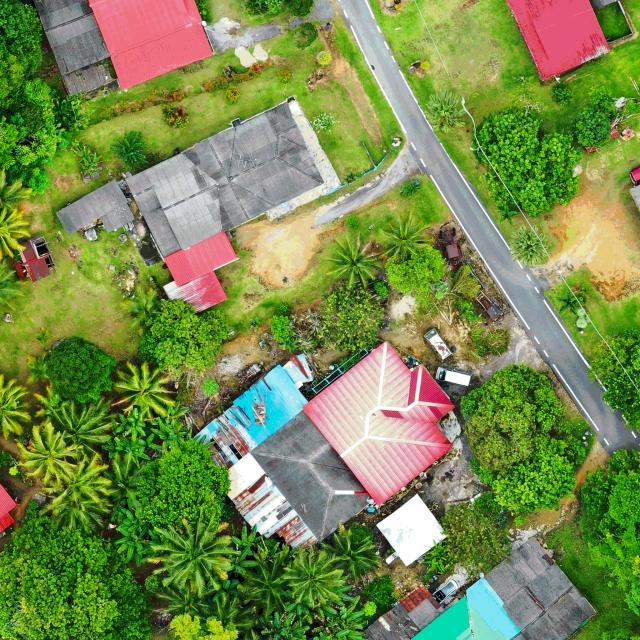Tree: (472, 101, 580, 218), (459, 365, 565, 470), (581, 445, 640, 619), (135, 437, 235, 530), (493, 438, 578, 526), (144, 513, 232, 598), (144, 298, 232, 377), (440, 494, 514, 578), (39, 456, 116, 533), (587, 325, 640, 428), (40, 397, 115, 462), (46, 334, 116, 402), (322, 282, 386, 350), (111, 358, 176, 420), (15, 421, 77, 486), (318, 523, 382, 583), (285, 548, 347, 606), (238, 553, 293, 617), (322, 233, 382, 291), (101, 452, 150, 518), (375, 208, 434, 262), (384, 246, 448, 295), (574, 83, 618, 149), (150, 580, 211, 626), (0, 374, 32, 443), (0, 253, 31, 323), (424, 87, 469, 133), (0, 203, 33, 263), (120, 283, 162, 329), (509, 224, 553, 267), (112, 129, 150, 173), (363, 573, 401, 607), (115, 406, 149, 441), (421, 538, 448, 576), (555, 287, 584, 316), (25, 353, 51, 384), (309, 110, 336, 134), (496, 201, 520, 226), (80, 153, 103, 177), (200, 377, 220, 396), (72, 143, 90, 159)
